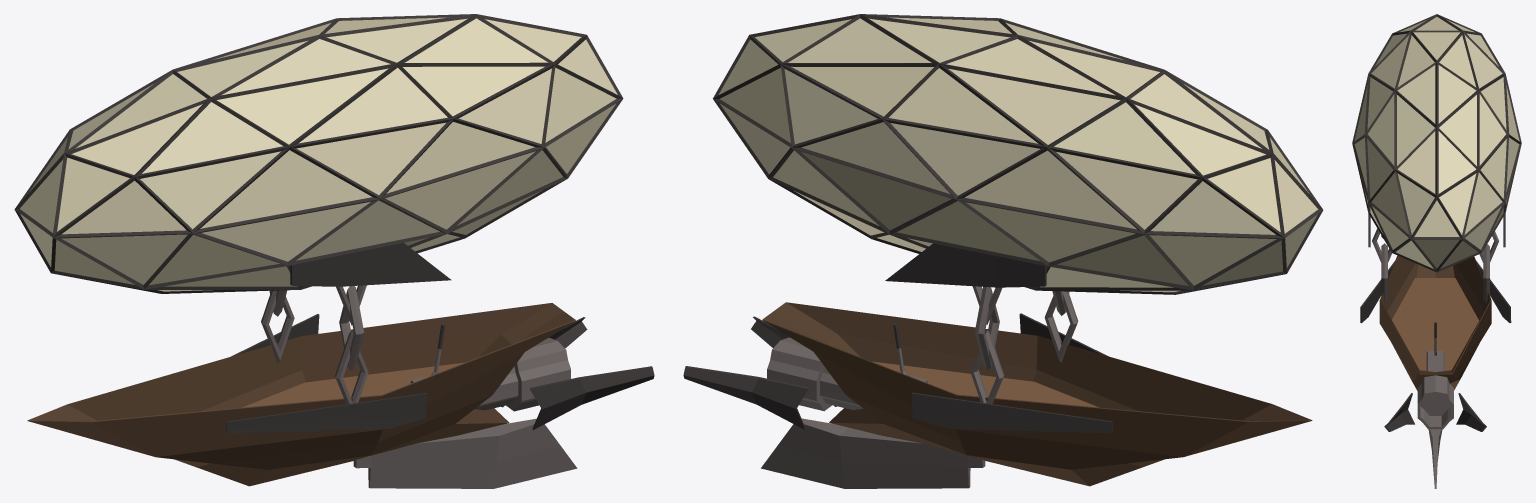
The model's file is mesh_boat_objectif.fbx.
The picture shows the model from 3 angles, left to right: view 1: azimuth 30°, elevation 25°; view 2: azimuth 150°, elevation 25°; view 3: azimuth 270°, elevation 25°; orthographic projection. The views are drawn at different scales.
Parts seen in each view (by area): view 1: mesh_ballon, mesh_boat, mesh_engine; view 2: mesh_ballon, mesh_boat, mesh_engine; view 3: mesh_ballon, mesh_boat, mesh_engine.
Part boxes in pixels (<box>): mesh_ballon: <box>14,14,623,404</box>; mesh_boat: <box>27,303,575,486</box>; mesh_engine: <box>353,317,654,488</box>; mesh_ballon: <box>713,14,1323,403</box>; mesh_boat: <box>762,302,1312,486</box>; mesh_engine: <box>683,316,985,488</box>; mesh_ballon: <box>1352,14,1521,302</box>; mesh_boat: <box>1360,255,1511,390</box>; mesh_engine: <box>1384,322,1486,488</box>.
Bounding box in the file's own units: 567 × 453 × 204.
